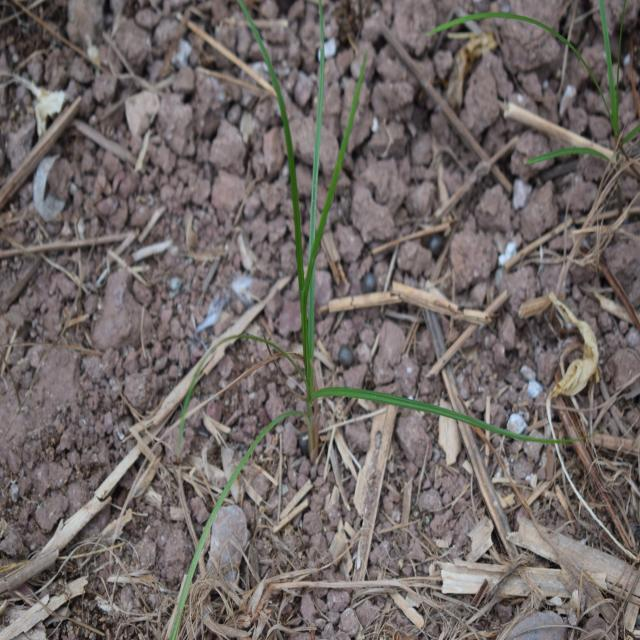sedge: (169, 54, 503, 534)
